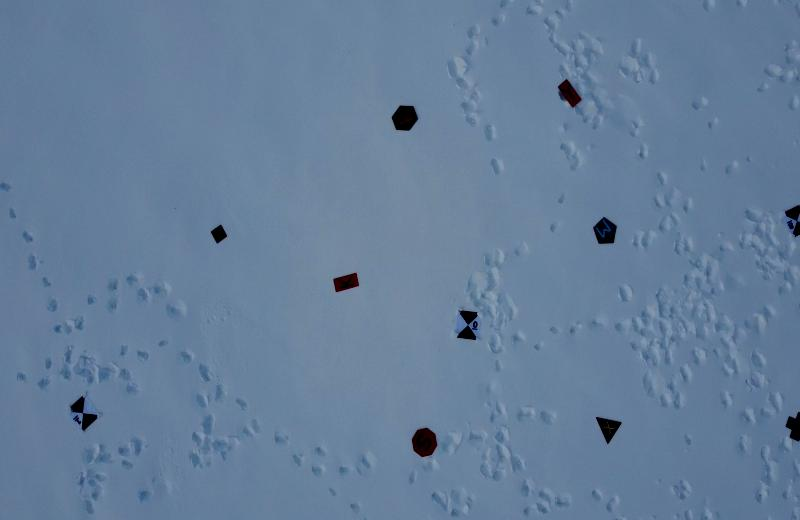Cross: (779, 406, 800, 444)
Hexagon: (388, 104, 420, 134)
Octagon: (410, 427, 438, 460)
Pentagon: (590, 212, 618, 246)
Rectangle: (328, 269, 362, 300), (556, 78, 580, 110)
Square: (209, 225, 229, 245)
Triangle: (593, 409, 624, 447)
